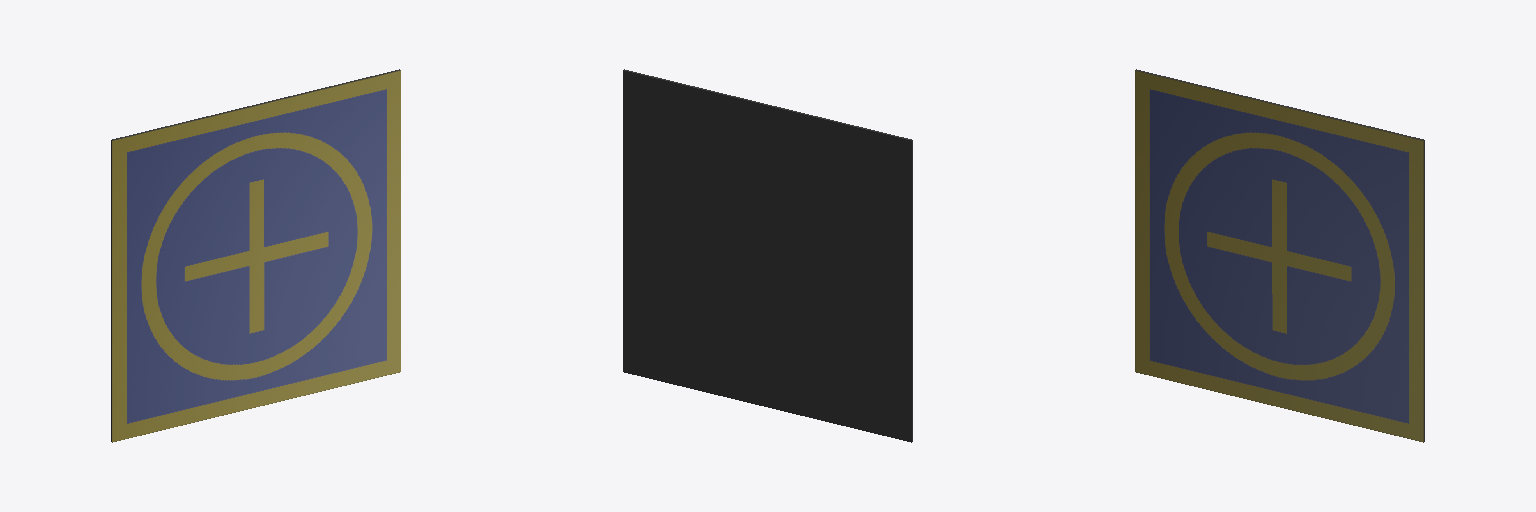
3 views of the same model, side by side, from view 1: azimuth 30°, elevation 25°; view 2: azimuth 150°, elevation 25°; view 3: azimuth 330°, elevation 25° (orthographic).
Parts seen in each view (by area): view 1: Cube.001; view 2: Cube.001; view 3: Cube.001.
Boxes of the visible parts, box(x1,y1,x2,y2) form: Cube.001: box(111, 69, 400, 442); Cube.001: box(623, 69, 912, 442); Cube.001: box(1135, 69, 1424, 442).
Bounding box in the file's own units: 1.5 × 1.5 × 0.012.
1 materials, 1 textured.